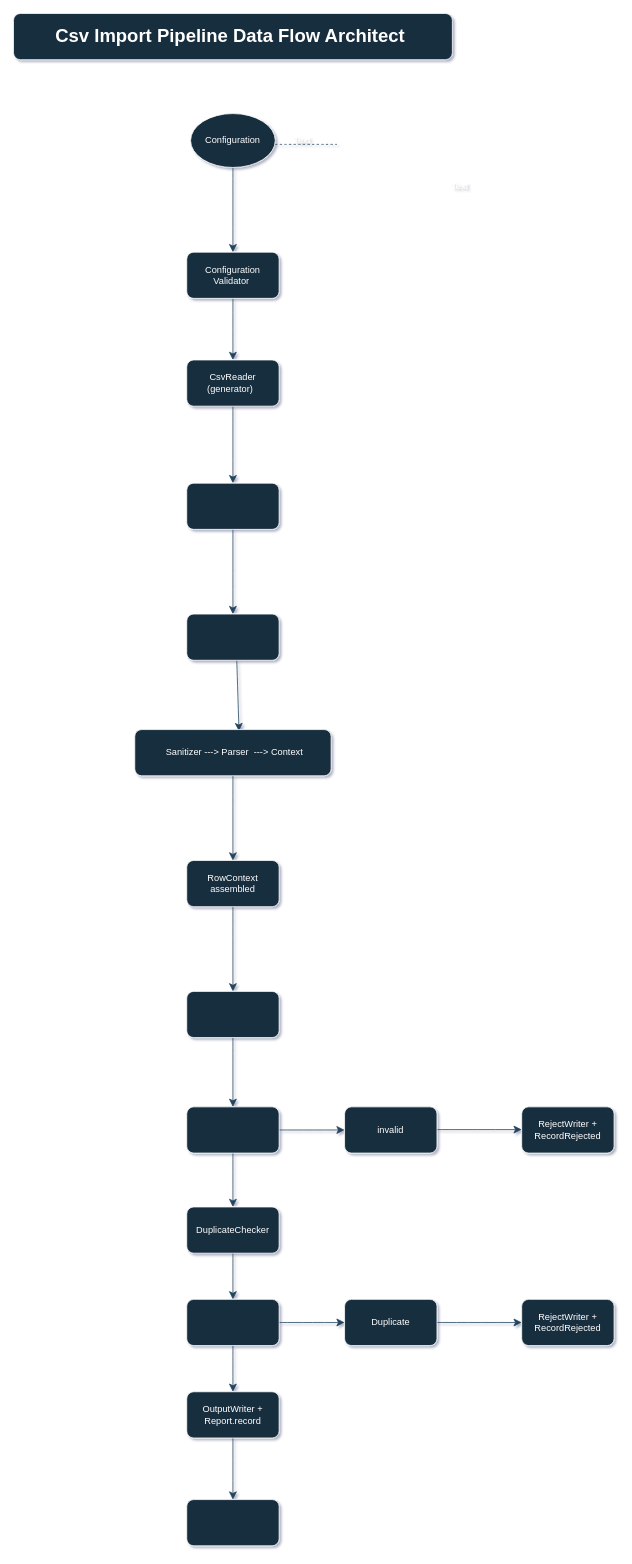
Some shapes in this 632 by 1564 pixel diagram are drawn without their labels. The centre of each missing label's shape, as x and y in pixels:
Column mapping Per Row: [232,636]
Header Mapper: [232,505]
ImportReport: [232,1522]
Unique: [232,1322]
Valid: [232,1129]
Validation Engine: [232,1014]
